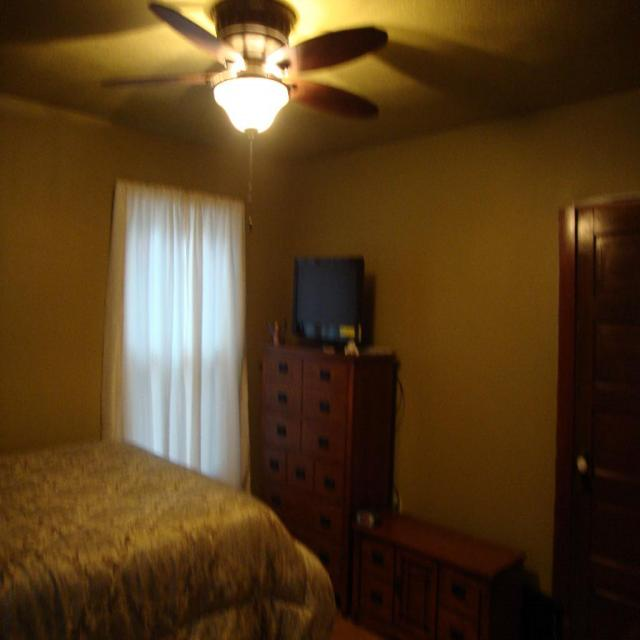Bulb: (98, 0, 378, 232)
